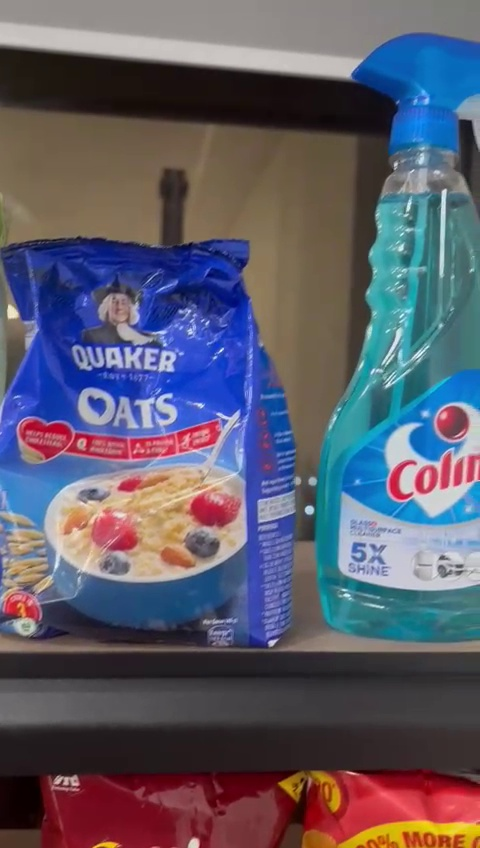Quaker Oats: (0, 231, 291, 654)
